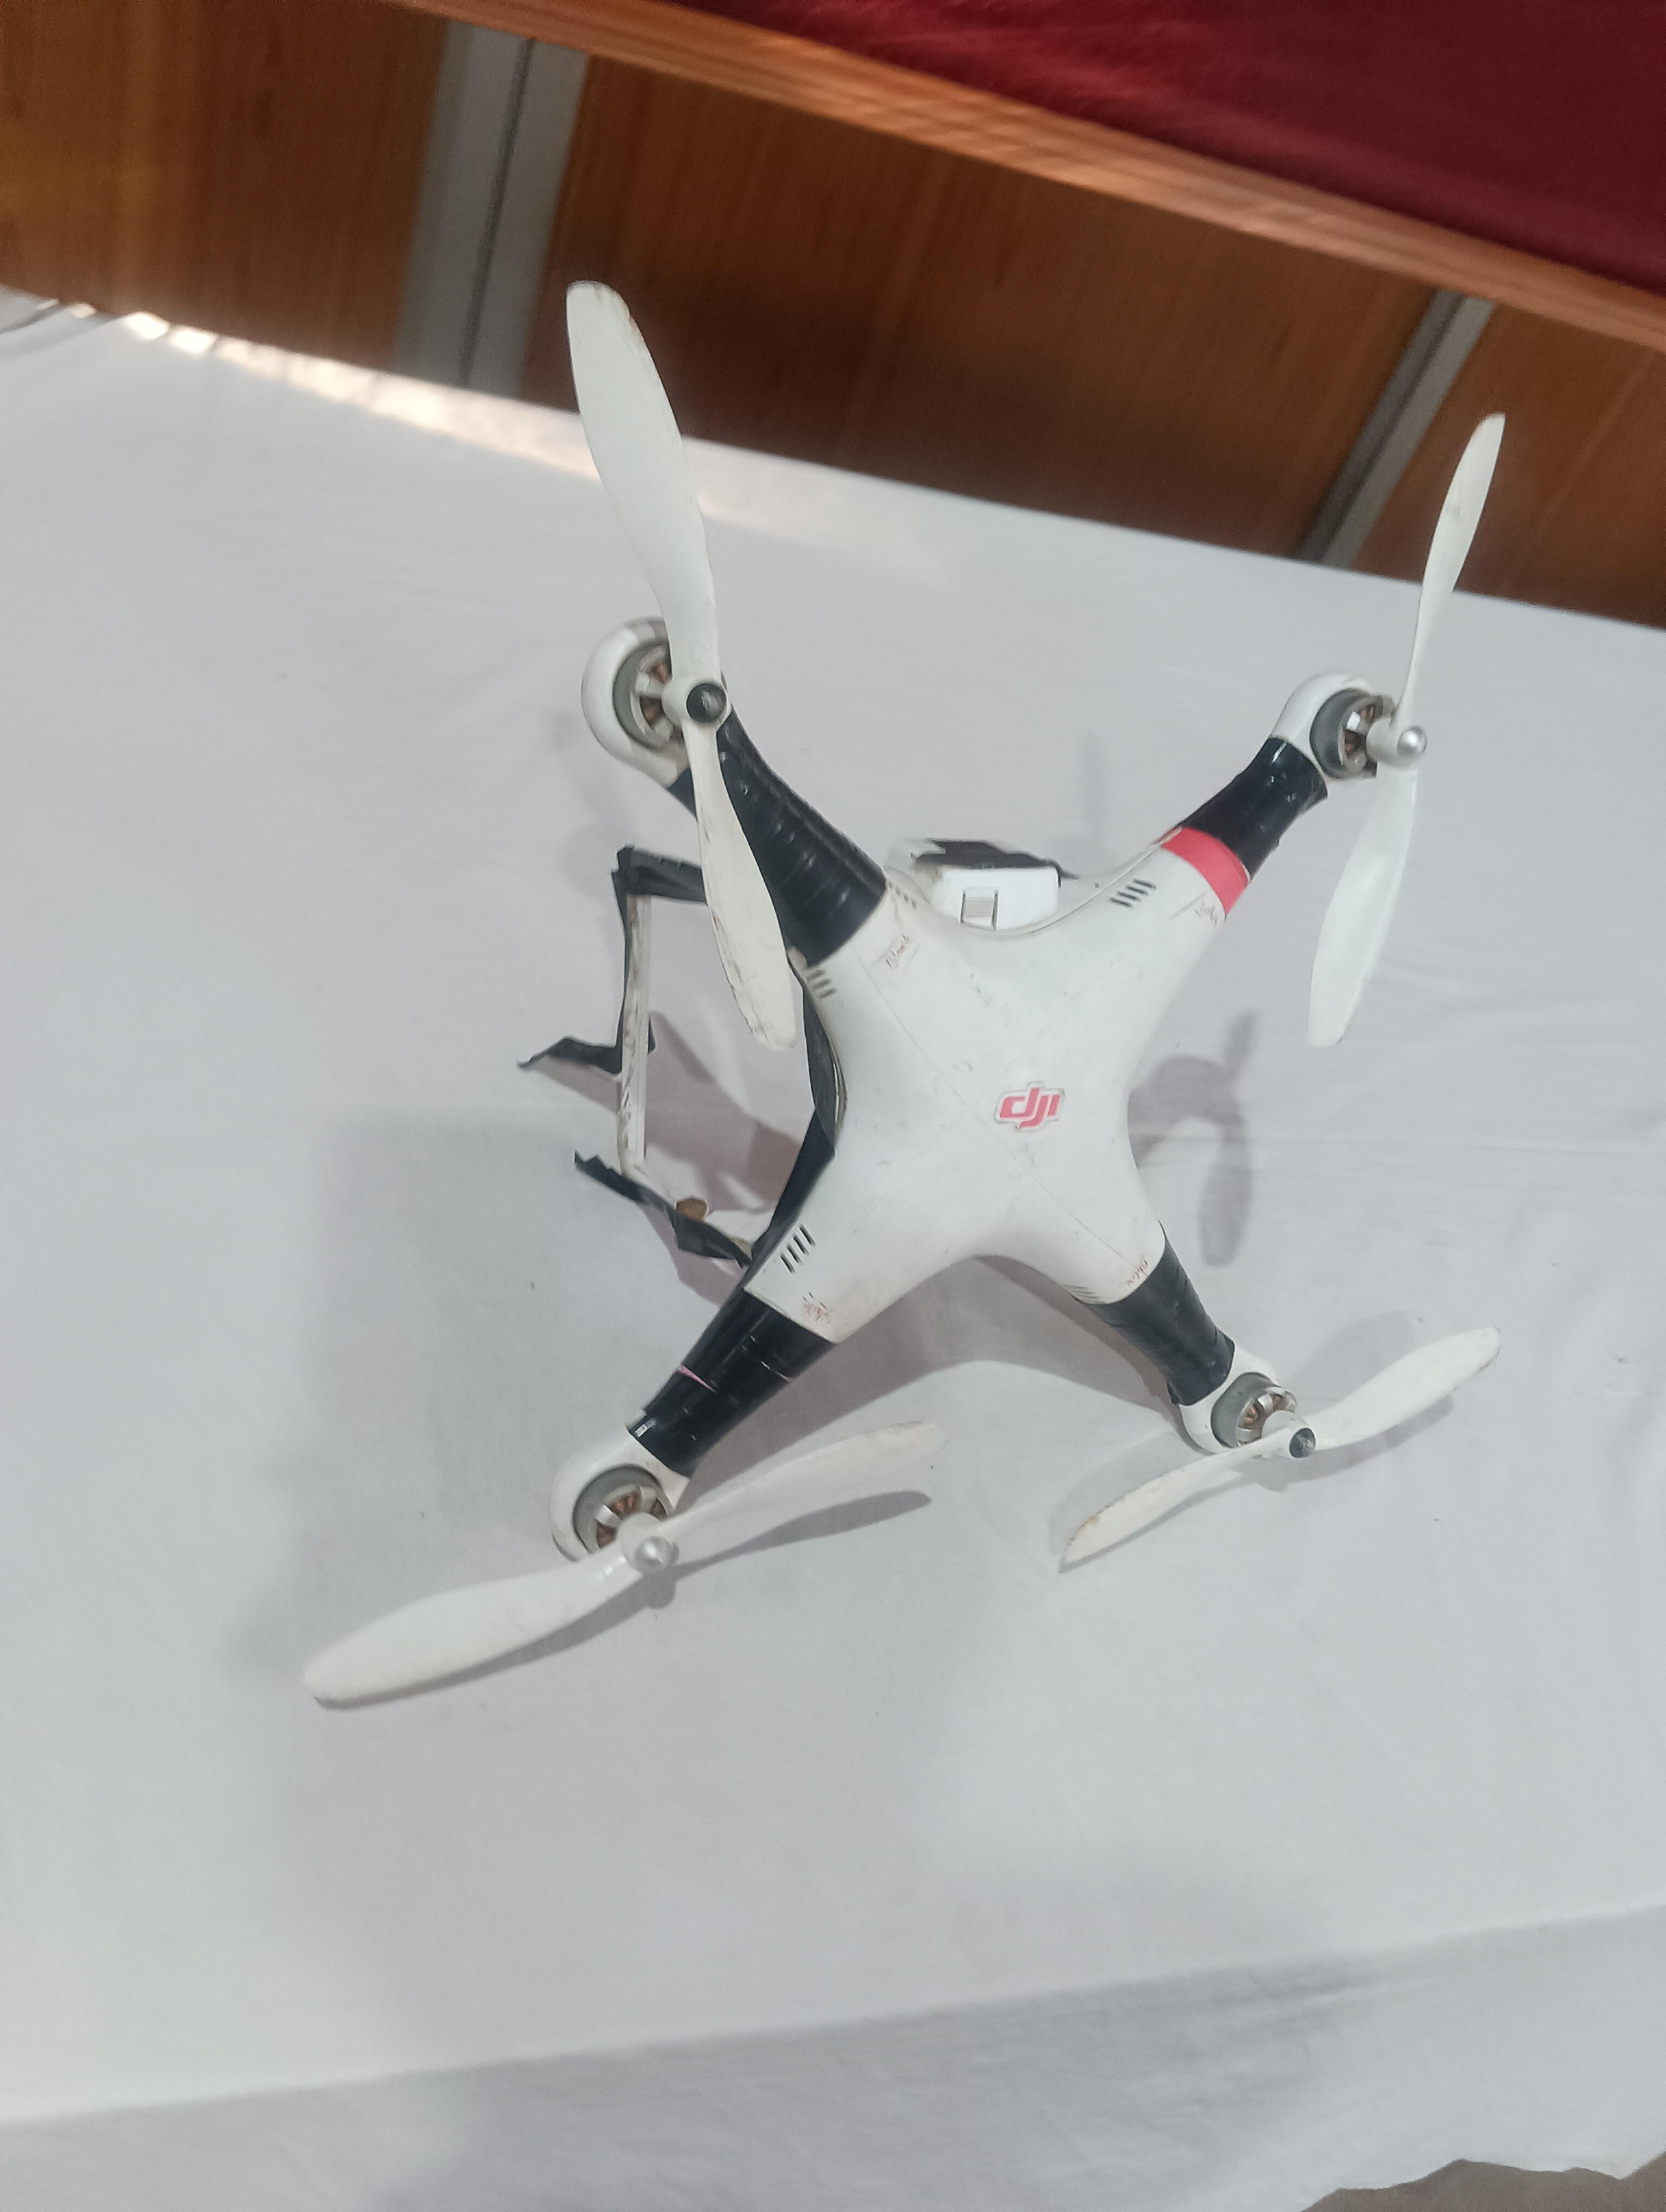drone: (494, 470, 1446, 1749)
